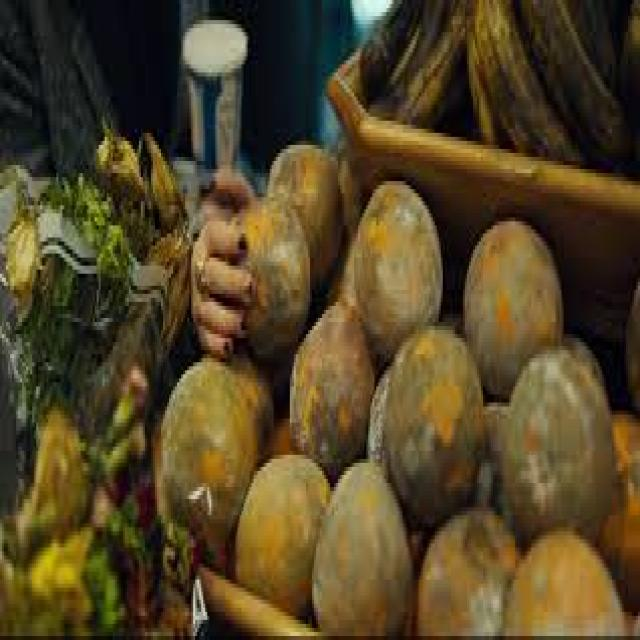organic waste: (0, 177, 129, 491), (159, 346, 274, 548), (503, 326, 610, 539), (384, 322, 483, 519), (461, 205, 559, 398), (308, 459, 410, 636), (521, 0, 634, 153), (234, 447, 330, 616), (483, 0, 584, 157), (352, 177, 439, 350), (286, 290, 370, 467), (501, 519, 624, 636), (0, 398, 91, 556), (417, 499, 519, 636), (229, 189, 312, 350), (89, 467, 167, 632), (6, 523, 119, 636), (266, 137, 340, 282), (473, 0, 537, 149), (34, 165, 127, 266), (594, 406, 638, 608), (392, 0, 461, 125), (366, 0, 445, 109), (350, 0, 419, 97), (97, 362, 151, 467), (471, 394, 513, 524), (463, 0, 497, 145), (92, 129, 147, 213), (143, 129, 185, 237), (569, 0, 622, 81), (161, 523, 197, 636), (4, 209, 38, 314), (364, 358, 390, 455), (332, 141, 360, 229), (624, 266, 638, 402), (129, 209, 161, 254), (622, 600, 636, 632)
